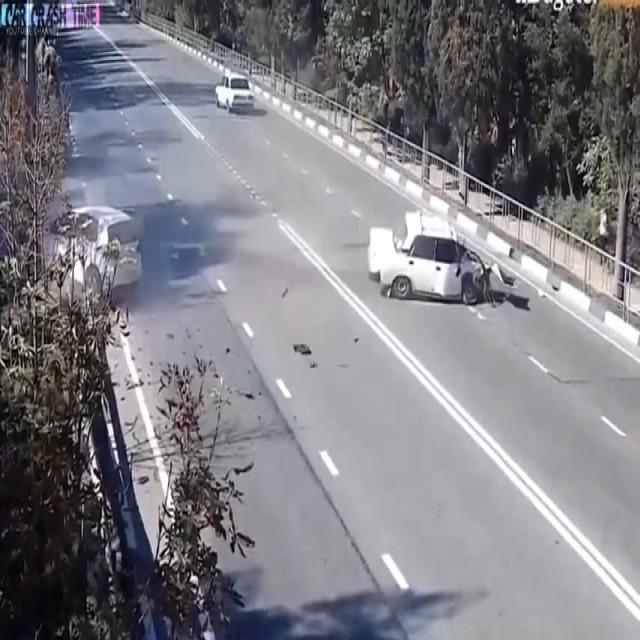Accident: (358, 161, 491, 329), (36, 186, 147, 313)
